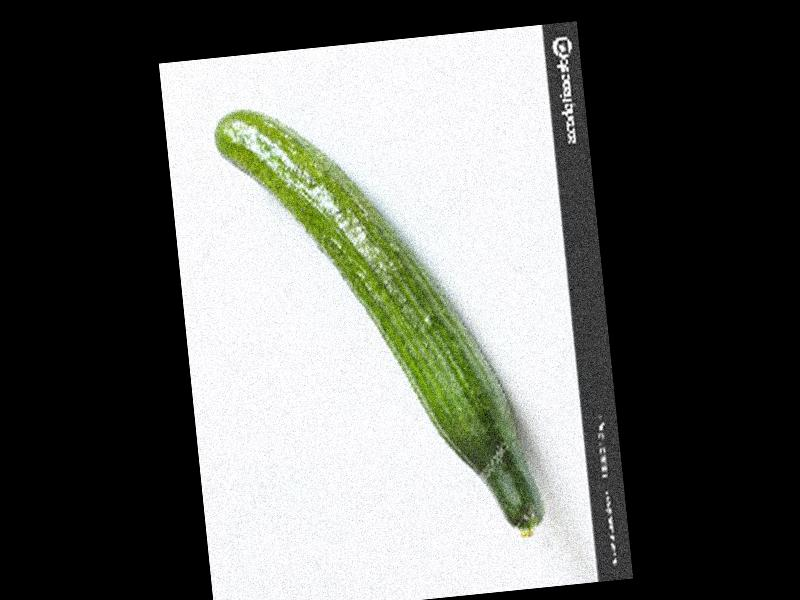Cucumber: (212, 86, 543, 564)
